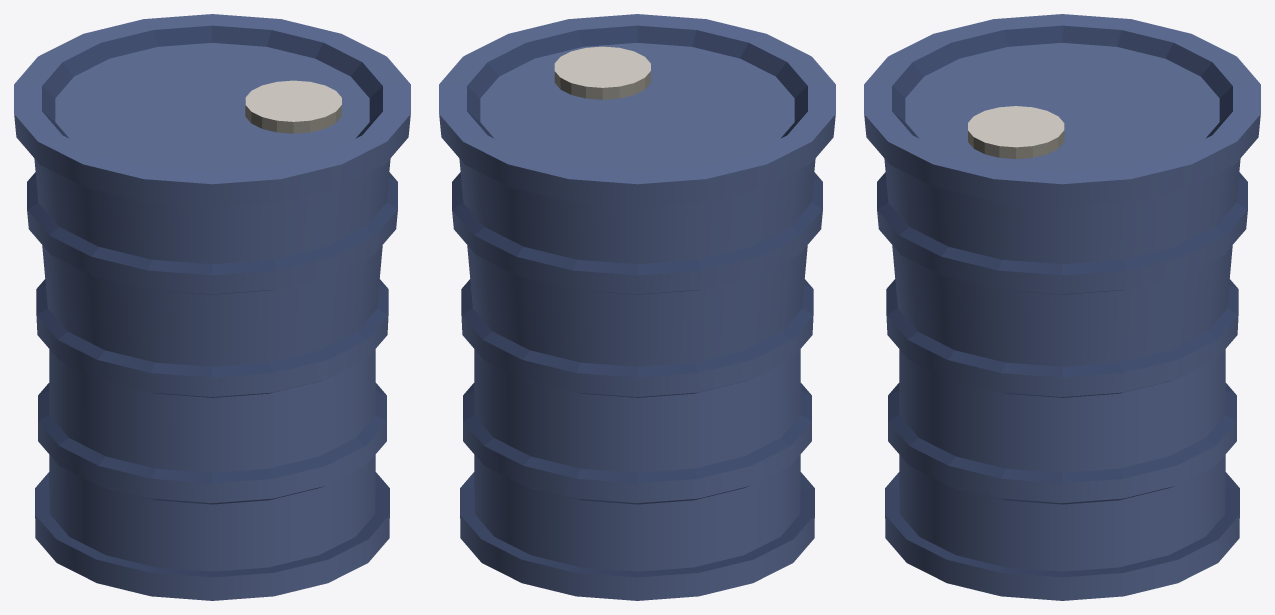
File: Barrel_Blue.FBX
3 renders of one model, left to right at view 1: azimuth 30°, elevation 25°; view 2: azimuth 150°, elevation 25°; view 3: azimuth 270°, elevation 25°, orthographic.
Visible parts, largest first — view 1: Cylinder007; view 2: Cylinder007; view 3: Cylinder007.
Boxes of the visible parts, x1,y1,x2,y2 form: Cylinder007: [14, 14, 410, 600]; Cylinder007: [439, 14, 835, 600]; Cylinder007: [864, 14, 1260, 600].
Size of the model in its own units: 110 by 128 by 108.
